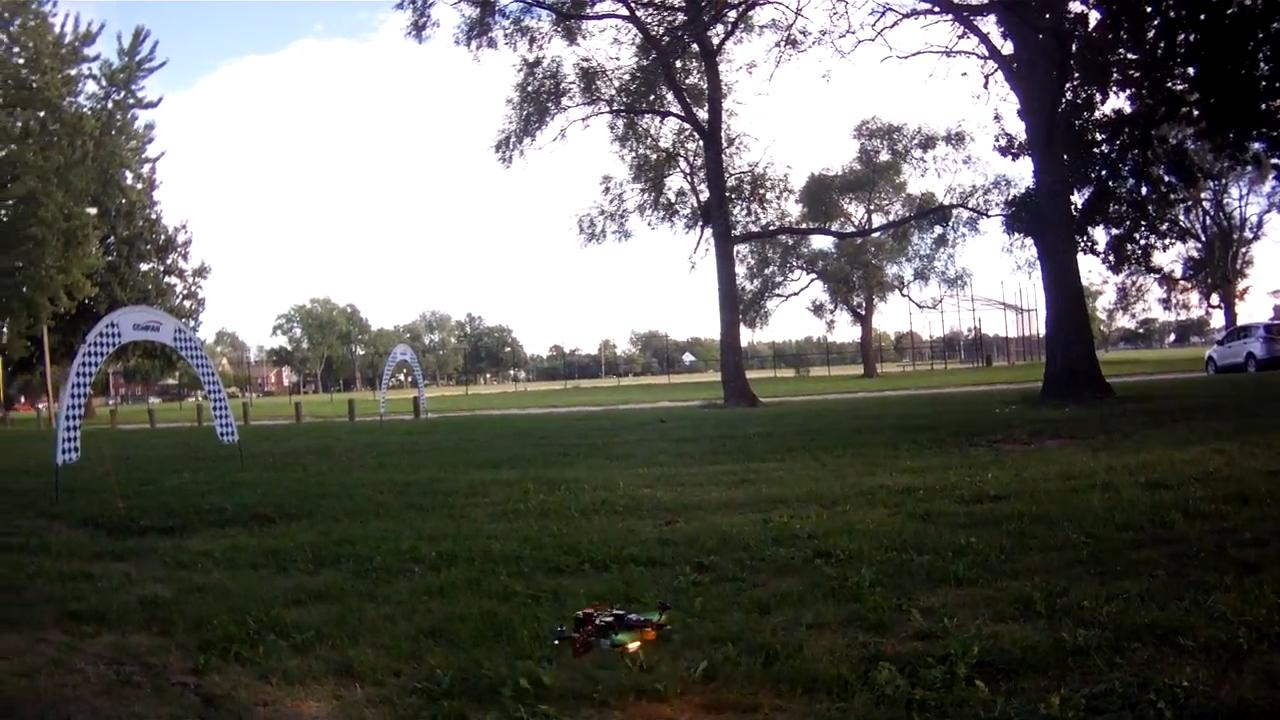gate: (48, 301, 235, 465), (376, 342, 430, 418)
